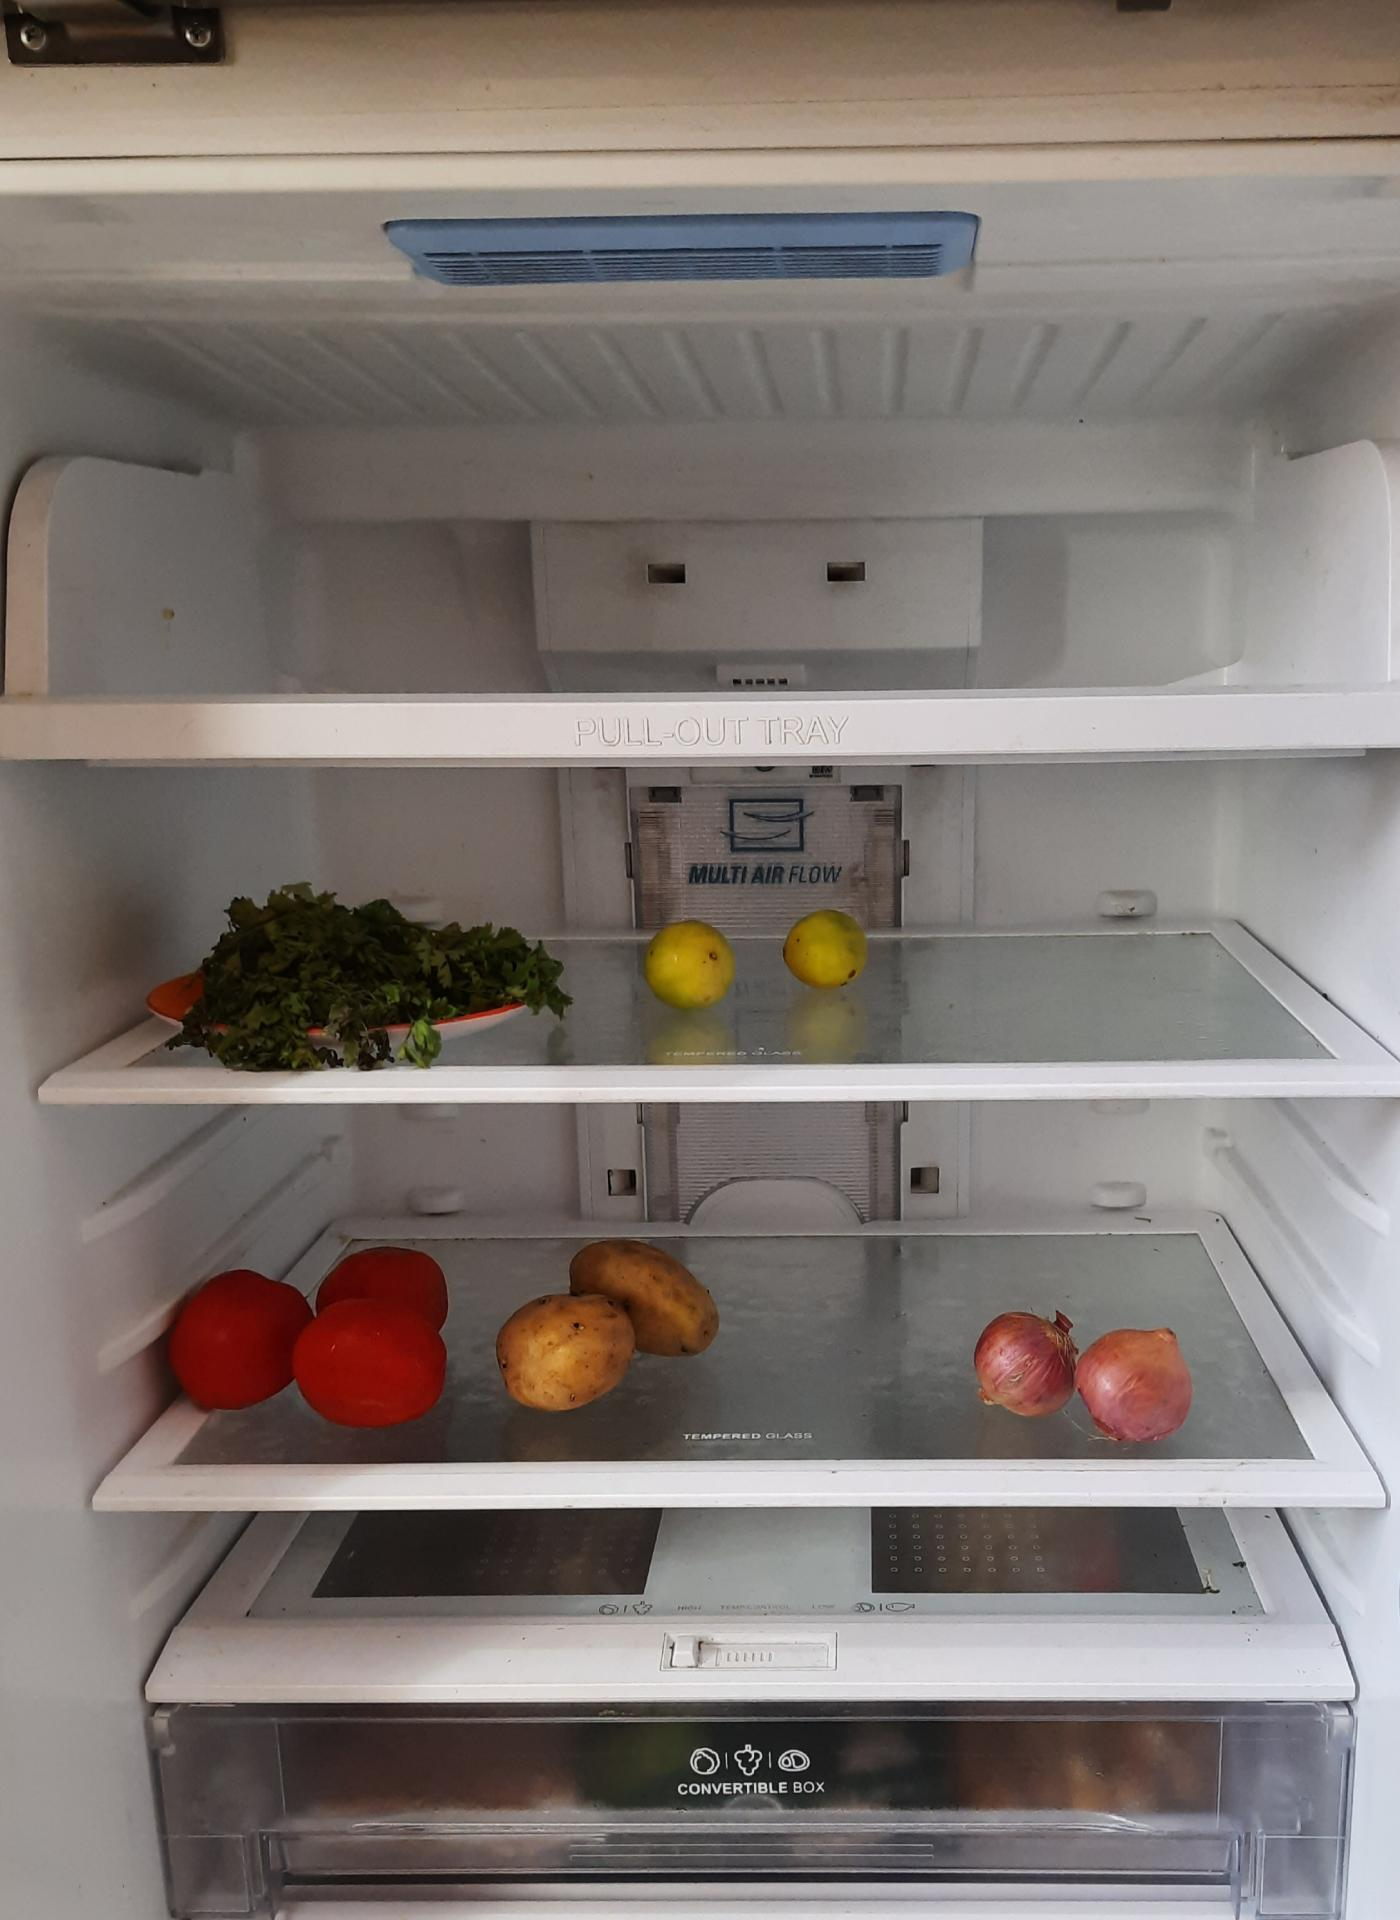coriander: (173, 900, 578, 1055)
lemon: (640, 923, 753, 1011), (786, 909, 875, 999)
onion: (987, 1303, 1193, 1431)
potato: (501, 1242, 717, 1403)
tomato: (177, 1242, 462, 1419)
